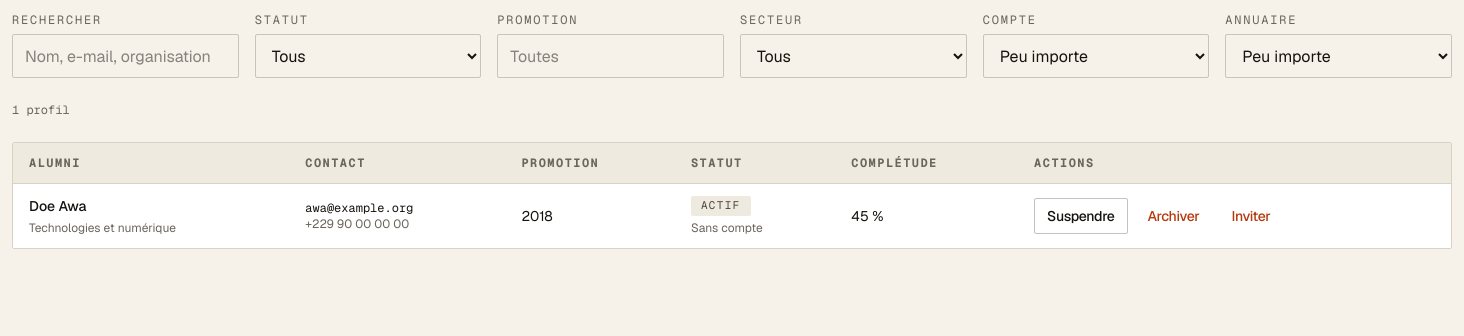
Test case: ProfilesView › signale l'échec d'une action sans faire croire à sa réussite
Expected: the text "Doe Awa" is shown, [29,197,86,215]
Click the button "Suspendre": (1081, 216) [1034,198,1128,234]
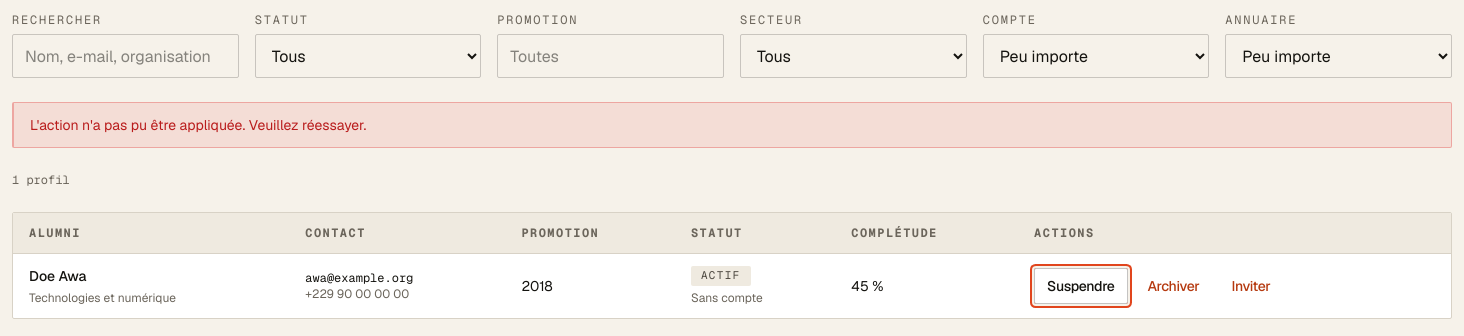
Now the text "L'action n'a pas pu être appliquée. Veuillez réessayer." is shown, box [12,102,1452,148]
